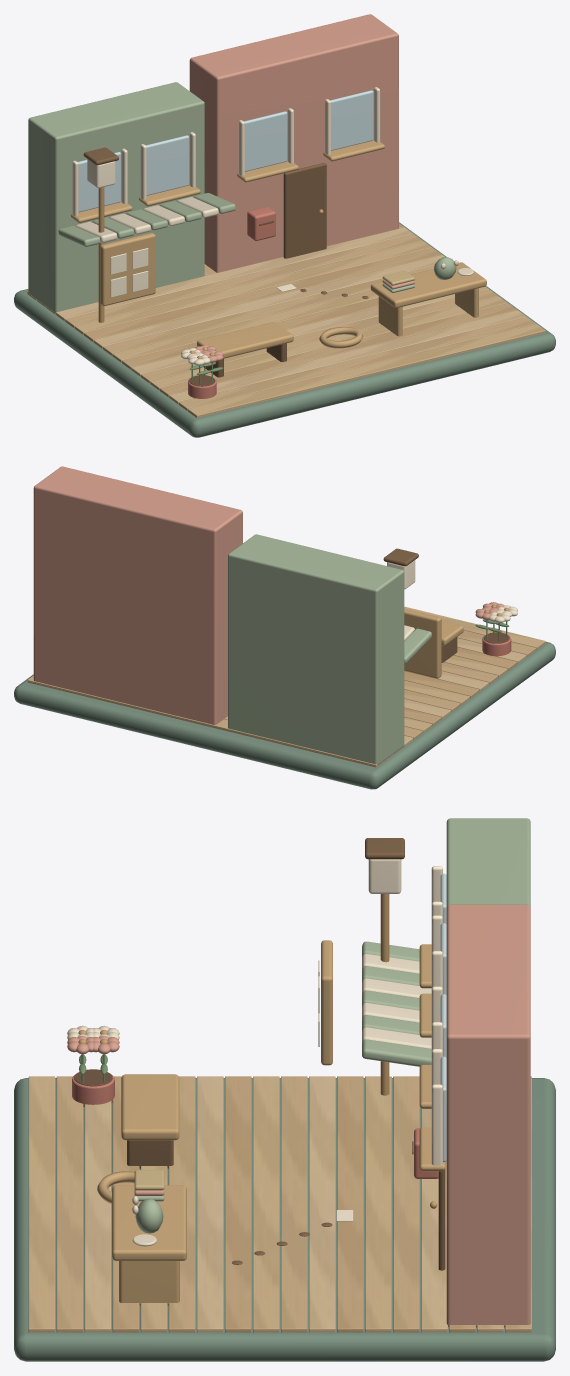
Rendered from alley.glb.
3 renders of one model, top to bottom at view 1: azimuth 30°, elevation 25°; view 2: azimuth 150°, elevation 25°; view 3: azimuth 270°, elevation 25°, orthographic. The views are drawn at different scales.
Visible parts, largest first — view 1: facades--蜜桃织物, facades--沙发鼠尾草绿, shell--木地板0, shell--地台侧面, shell--木地板1, shell--木地板2, shell--木地板3, facades--窗外蓝, facades--胡桃木细节, stall--浅橡木, facades--米白木框, rest--浅橡木 (+9 smaller); view 2: facades--蜜桃织物, facades--沙发鼠尾草绿, shell--地台侧面, shell--木地板1, shell--木地板0, clues--浅橡木, shell--木地板3, shell--木地板2, rest--胡桃木细节, rest--陶土粉; view 3: facades--蜜桃织物, shell--地台侧面, shell--木地板1, shell--木地板2, shell--木地板0, shell--木地板3, facades--沙发鼠尾草绿, stall--浅橡木, rest--浅橡木, facades--米白木框, facades--奶油织物, facades--浅橡木 (+9 smaller).
Boxes of the visible parts, left/top/right/bottom form: facades--蜜桃织物: left=189, top=14, right=398, bottom=272; facades--沙发鼠尾草绿: left=28, top=82, right=235, bottom=312; shell--木地板0: left=37, top=241, right=545, bottom=417; shell--地台侧面: left=14, top=222, right=555, bottom=437; shell--木地板1: left=27, top=234, right=535, bottom=410; shell--木地板2: left=55, top=227, right=526, bottom=404; shell--木地板3: left=46, top=223, right=516, bottom=397; facades--窗外蓝: left=78, top=90, right=373, bottom=212; facades--胡桃木细节: left=283, top=163, right=326, bottom=258; stall--浅橡木: left=370, top=262, right=486, bottom=336; facades--米白木框: left=72, top=87, right=380, bottom=216; rest--浅橡木: left=197, top=322, right=362, bottom=358; facades--蜜桃织物: left=33, top=466, right=242, bottom=724; facades--沙发鼠尾草绿: left=228, top=534, right=431, bottom=764; shell--地台侧面: left=14, top=641, right=555, bottom=789; shell--木地板1: left=27, top=630, right=536, bottom=767; shell--木地板0: left=225, top=606, right=545, bottom=760; clues--浅橡木: left=404, top=608, right=441, bottom=678; shell--木地板3: left=394, top=647, right=517, bottom=753; shell--木地板2: left=404, top=638, right=526, bottom=746; rest--胡桃木细节: left=383, top=548, right=457, bottom=662; rest--陶土粉: left=482, top=635, right=511, bottom=656; facades--蜜桃织物: left=446, top=904, right=530, bottom=1327; shell--地台侧面: left=14, top=1078, right=555, bottom=1361; shell--木地板1: left=56, top=1076, right=531, bottom=1332; shell--木地板2: left=84, top=1076, right=447, bottom=1332; shell--木地板0: left=28, top=1076, right=503, bottom=1332; shell--木地板3: left=112, top=1076, right=475, bottom=1332; facades--沙发鼠尾草绿: left=362, top=818, right=530, bottom=1066; stall--浅橡木: left=112, top=1185, right=186, bottom=1305; rest--浅橡木: left=97, top=1074, right=179, bottom=1203; facades--米白木框: left=431, top=866, right=442, bottom=1165; facades--奶油织物: left=362, top=953, right=431, bottom=1048; facades--浅橡木: left=419, top=944, right=445, bottom=1171.
Bounding box in the file's own units: 6.7 × 3.78 × 5.8.
Materials: 18 (4 with a texture image).
